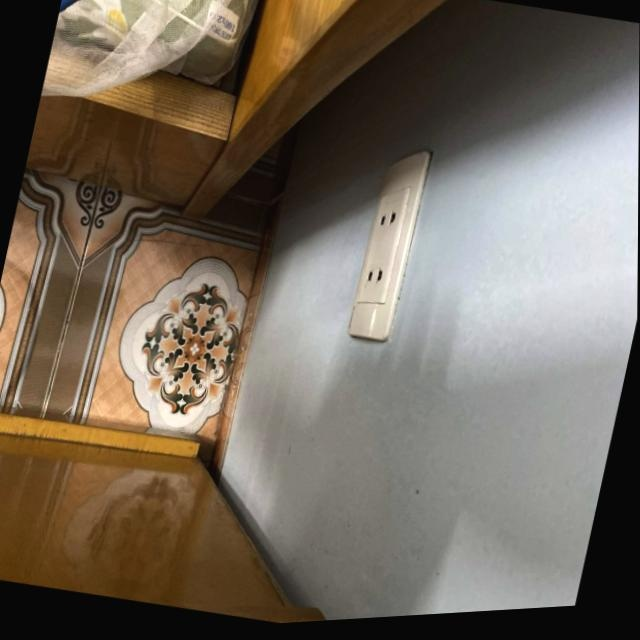outlet: (345, 141, 431, 345)
